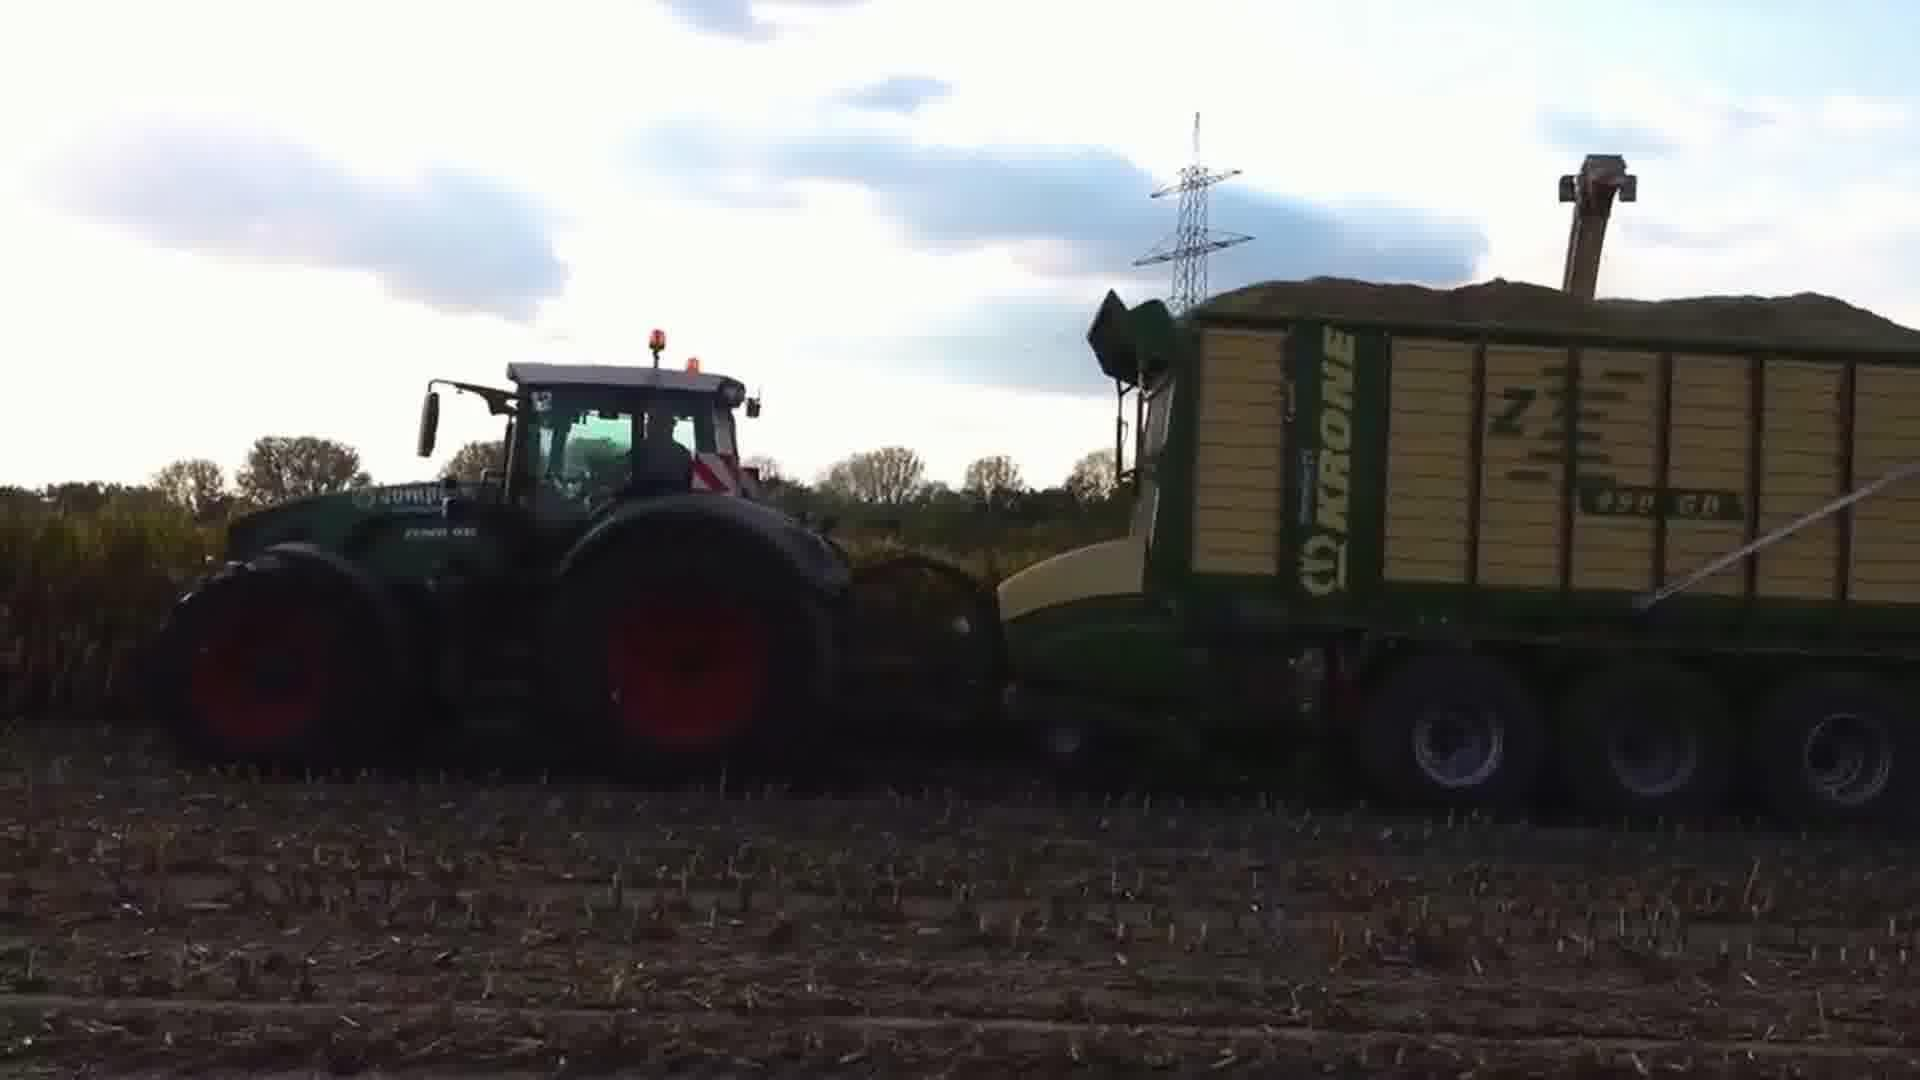tractor: (126, 316, 876, 787)
trailer: (918, 259, 1920, 862)
